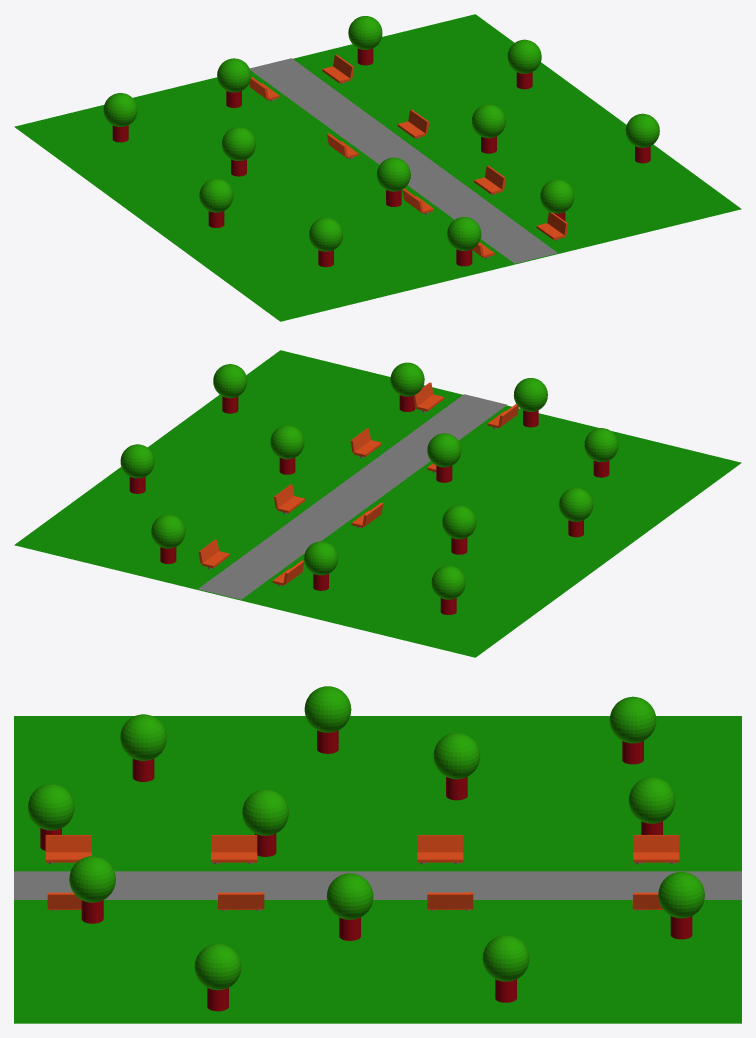
The model's file is garden.glb.
The picture shows the model from 3 angles, top to bottom: view 1: azimuth 30°, elevation 25°; view 2: azimuth 150°, elevation 25°; view 3: azimuth 270°, elevation 25°; orthographic projection. The views are drawn at different scales.
Visible parts, largest first — view 1: Plane, Plane.001, Sphere.001, Sphere.003, Sphere.006, Sphere.002, Sphere.010, Sphere.011, Sphere.012, Sphere.004, Sphere.008, Sphere.009 (+2 smaller); view 2: Plane, Plane.001, Sphere.011, Sphere.003, Sphere.005, Sphere.007, Sphere.004, Sphere.009, Sphere.012, Sphere.001, Sphere.008, Sphere.006 (+2 smaller); view 3: Plane, Plane.001, Sphere.004, Sphere.002, Sphere.007, Sphere.008, Sphere.003, Sphere.005, Sphere.006, Sphere.009, Sphere.010, Sphere.011 (+8 smaller).
Part boxes in pixels (x1,y1,x2,y2): Plane: (14, 14, 741, 321); Plane.001: (250, 58, 557, 263); Sphere.001: (199, 178, 233, 212); Sphere.003: (540, 179, 574, 213); Sphere.006: (217, 58, 251, 92); Sphere.002: (625, 113, 659, 147); Sphere.010: (447, 217, 481, 250); Sphere.011: (507, 39, 541, 73); Sphere.012: (472, 104, 505, 138); Sphere.004: (222, 127, 255, 160); Sphere.008: (309, 217, 343, 251); Sphere.009: (377, 157, 410, 191); Plane: (14, 350, 741, 657); Plane.001: (198, 394, 507, 599); Sphere.011: (120, 444, 154, 478); Sphere.003: (390, 362, 424, 396); Sphere.005: (151, 514, 185, 548); Sphere.007: (431, 565, 465, 599); Sphere.004: (442, 505, 476, 539); Sphere.009: (427, 433, 461, 467); Sphere.012: (270, 425, 304, 459); Sphere.001: (559, 487, 593, 521); Sphere.008: (584, 428, 618, 461); Sphere.006: (304, 541, 338, 575); Plane: (14, 716, 741, 1023); Plane.001: (14, 871, 741, 899); Sphere.004: (433, 732, 480, 779); Sphere.002: (194, 943, 241, 990); Sphere.007: (609, 696, 656, 743); Sphere.008: (120, 714, 166, 760); Sphere.003: (69, 856, 115, 902); Sphere.005: (658, 871, 704, 918); Sphere.006: (628, 777, 675, 823); Sphere.009: (242, 789, 288, 835); Sphere.010: (28, 784, 74, 830); Sphere.011: (482, 935, 529, 981).
Size of the model in its own units: 20 by 1.89 by 20.
